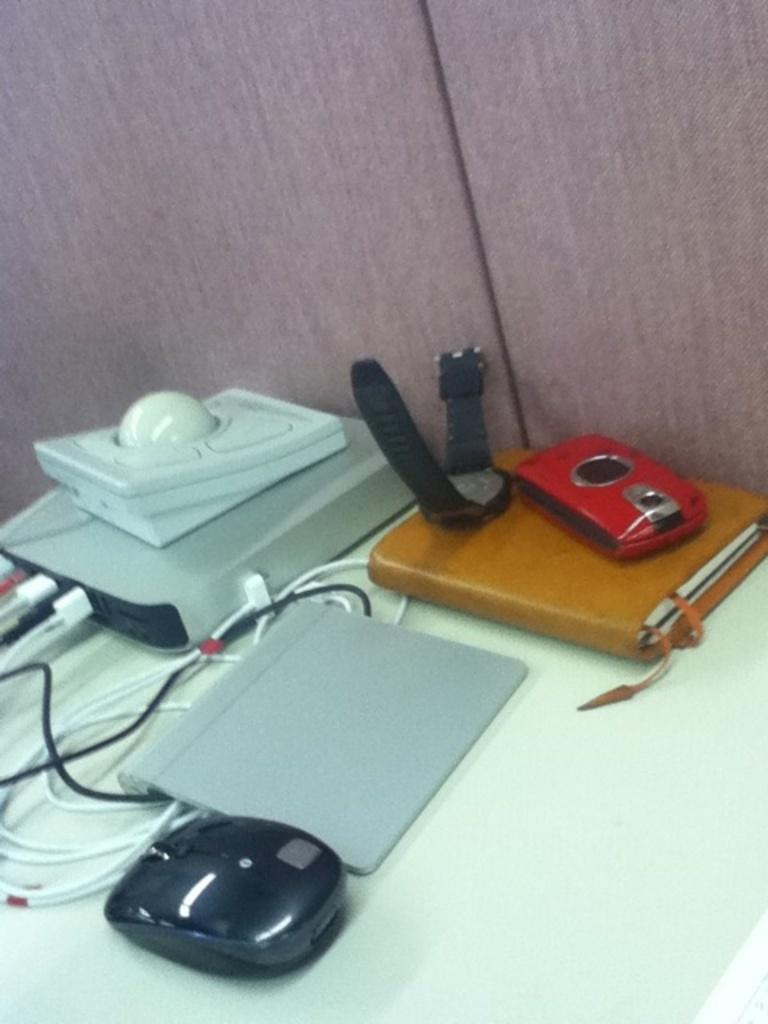Computer-mouse: (101, 811, 354, 981)
